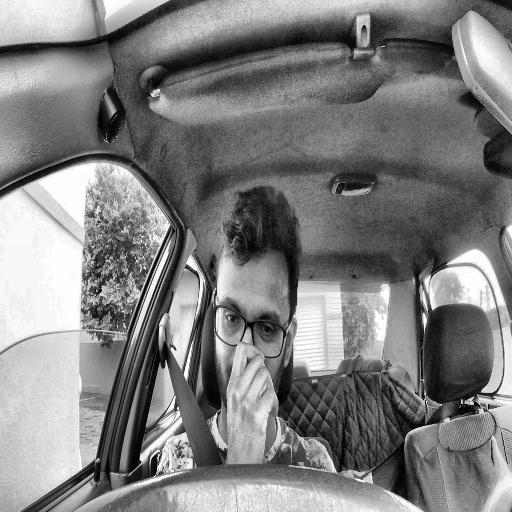awake: (212, 187, 297, 417)
